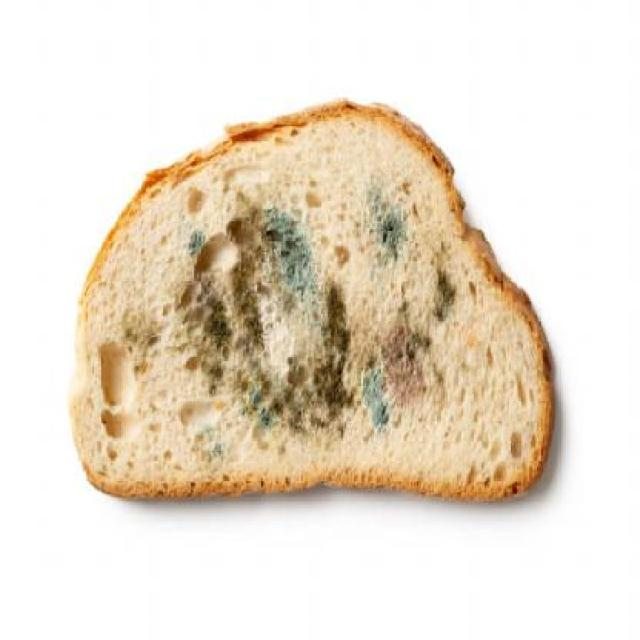mold_bread: (163, 200, 316, 355), (349, 319, 449, 442), (194, 364, 351, 440), (350, 181, 420, 265), (417, 265, 471, 318)
